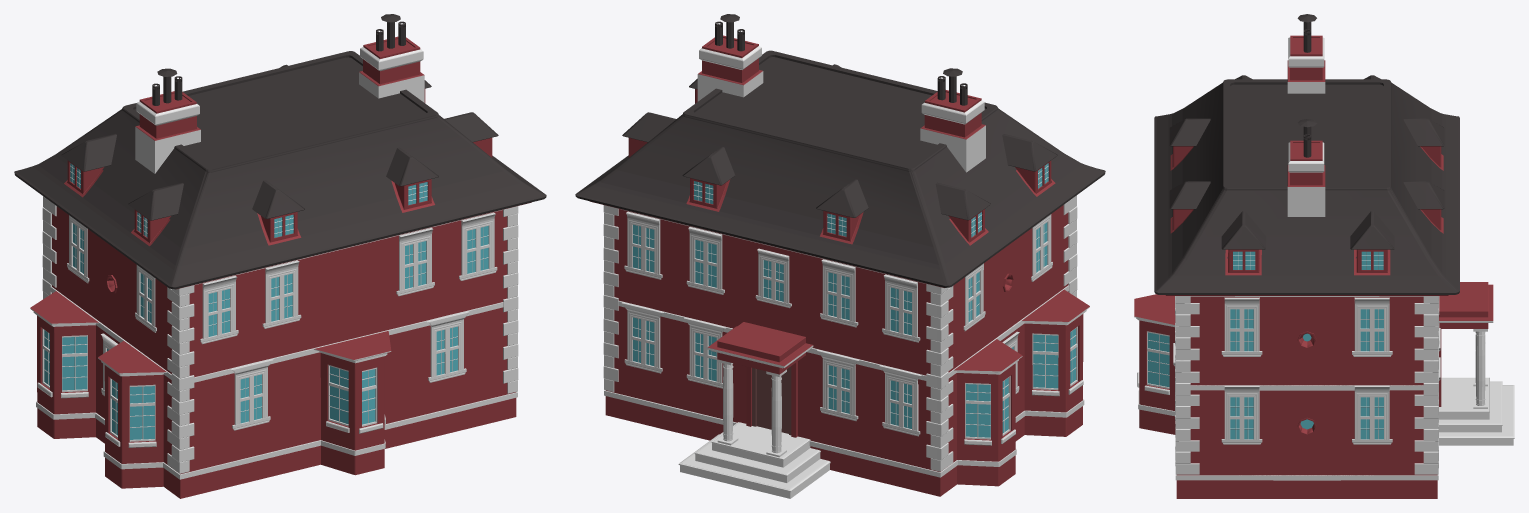
The model's file is house08.fbx.
3 views of the same model, side by side, from view 1: azimuth 30°, elevation 25°; view 2: azimuth 150°, elevation 25°; view 3: azimuth 270°, elevation 25° (orthographic). The views are drawn at different scales.
Visible parts, largest first — view 1: _house8; view 2: _house8; view 3: _house8.
Part boxes in pixels (bbox=[...]): _house8: bbox=[14, 14, 546, 498]; _house8: bbox=[575, 14, 1105, 498]; _house8: bbox=[1134, 14, 1514, 498].
Size of the model in its own units: 146 by 129 by 127.
